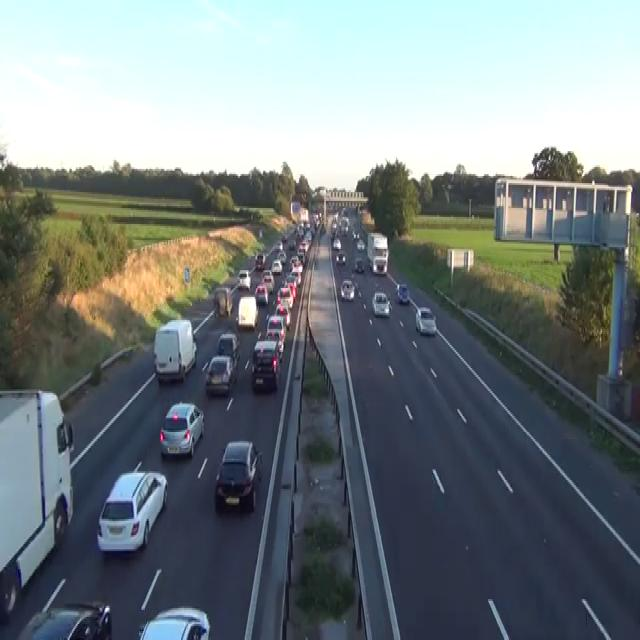Car: (96, 462, 168, 553), (16, 599, 112, 638), (214, 439, 262, 512), (159, 402, 204, 457), (137, 606, 210, 638), (251, 340, 280, 391), (204, 354, 235, 394), (217, 331, 240, 366), (264, 329, 284, 361), (266, 315, 286, 345), (415, 306, 436, 334), (371, 290, 391, 316), (276, 284, 293, 310), (274, 304, 291, 329), (261, 268, 274, 294), (283, 274, 297, 298), (340, 279, 355, 301), (237, 268, 251, 290), (372, 254, 387, 274), (395, 283, 409, 304), (254, 283, 268, 304), (289, 256, 302, 274), (255, 251, 265, 270), (339, 217, 349, 235), (354, 256, 364, 272), (335, 251, 346, 265), (271, 260, 282, 274), (276, 251, 286, 265), (313, 213, 320, 230), (332, 236, 341, 249), (356, 238, 365, 251), (354, 282, 361, 298), (288, 238, 296, 249), (330, 222, 336, 236), (352, 229, 359, 240), (276, 240, 283, 251), (320, 222, 326, 233), (281, 233, 287, 242), (258, 228, 262, 238)
Truck: (0, 388, 74, 620), (153, 316, 197, 382), (367, 231, 388, 274), (236, 295, 258, 329), (213, 284, 233, 316)
